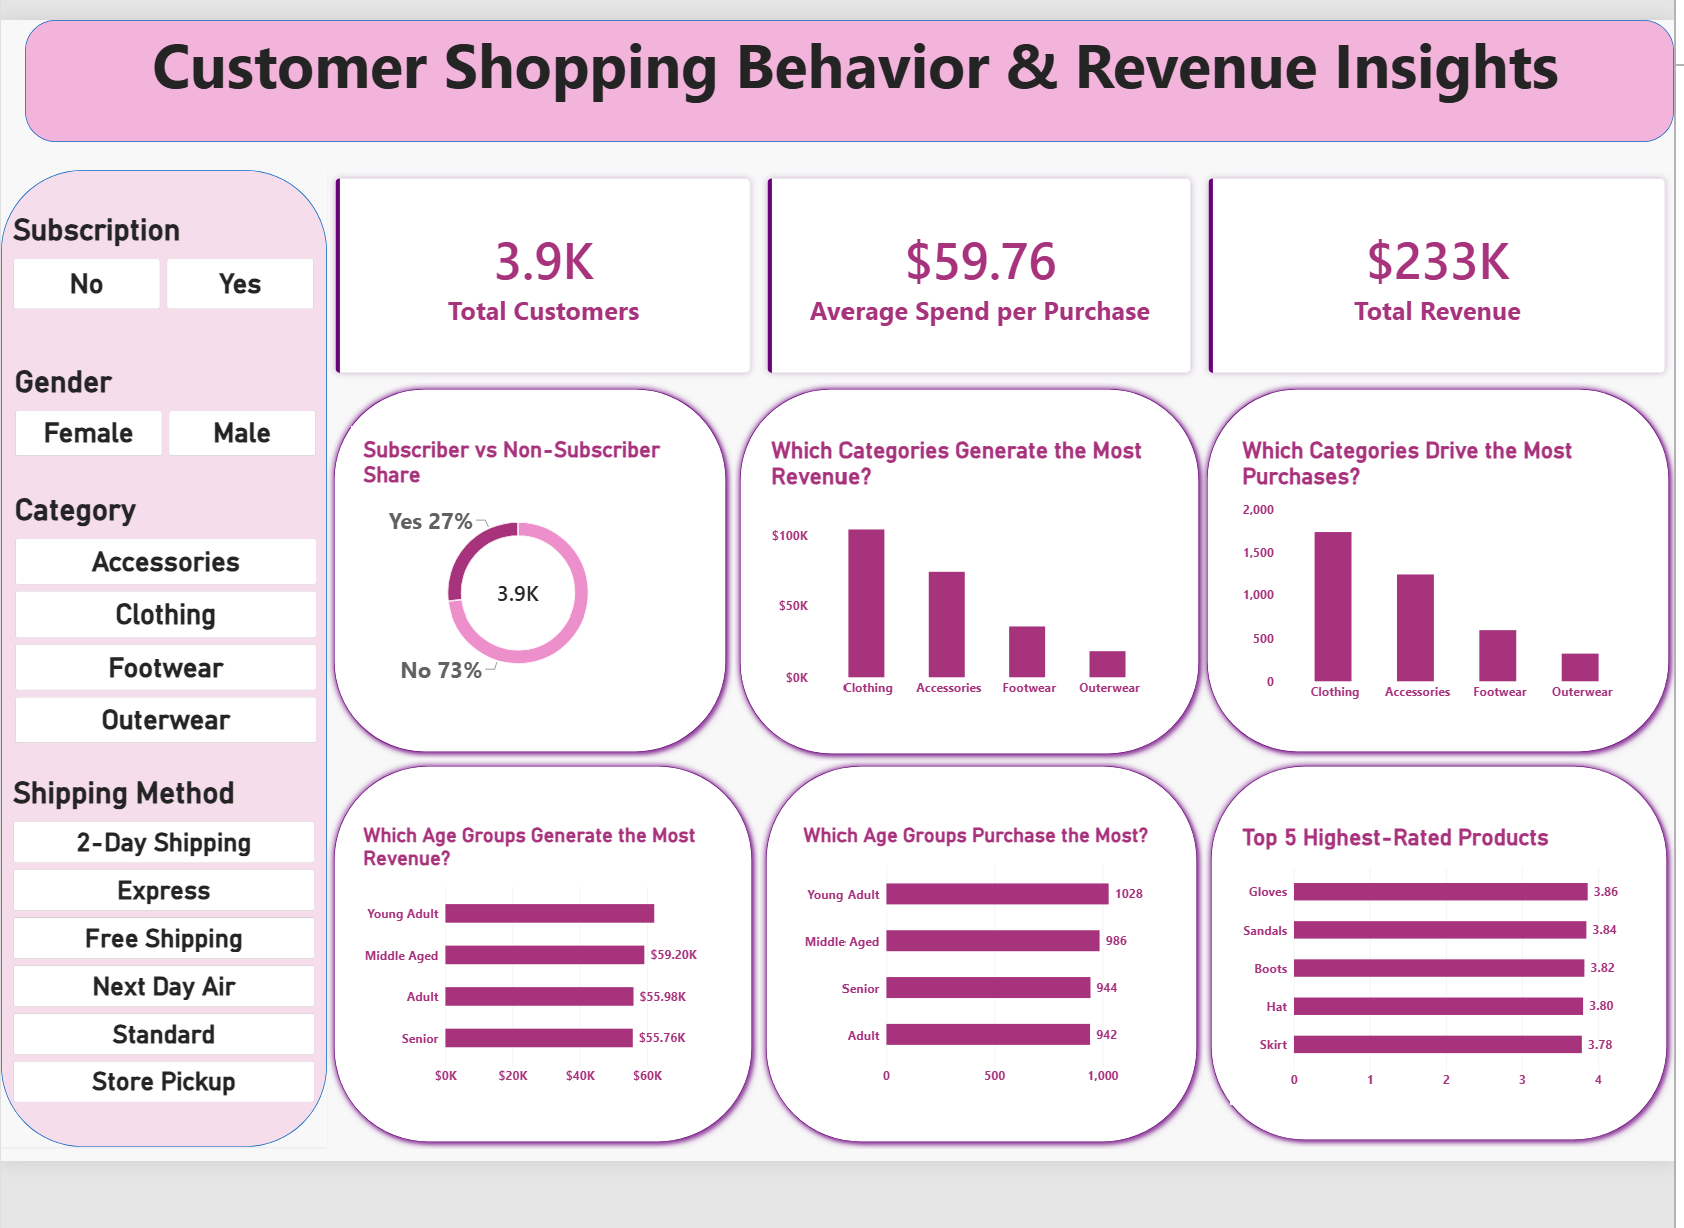

The page's visual inventory and layout, read from the dashboard file:
{"tool":"powerbi","page":{"name":"Page 1","canvas":[2200,1500],"ordinal":0},"visuals":[{"type":"cardVisual","fields":{"Data":["customer_shopping_behavior.Number of Customers"]},"box":[428.9,197.4,568.4,278.9],"z":0},{"type":"cardVisual","fields":{"Data":["customer_shopping_behavior.Average Purchase Amount"]},"box":[997.4,197.4,578.9,278.9],"z":1000},{"type":"cardVisual","fields":{"Data":["Sum(customer_shopping_behavior.purchase_amount)"]},"box":[1576.3,197.4,623.7,278.9],"z":2000},{"type":"shape","box":[31.6,0,2168.4,160.5],"z":3000},{"type":"textbox","box":[81.6,2.6,2084.2,165.8],"z":4000},{"type":"shape","box":[428.9,476.3,534.2,494.7],"z":5000},{"type":"donutChart","title":"Subscriber vs Non-Subscriber Share","fields":{"Category":["customer_shopping_behavior.subscription_status"],"Y":["CountNonNull(customer_shopping_behavior.customer_id)"]},"box":[460.5,534.2,439.5,357.9],"z":6000},{"type":"shape","box":[963.2,476.3,621.1,497.4],"z":7000},{"type":"shape","box":[1576.3,476.3,626.3,494.7],"z":8000},{"type":"clusteredColumnChart","title":"Which Categories Generate the Most Revenue?","fields":{"Category":["customer_shopping_behavior.category"],"Y":["Sum(customer_shopping_behavior.purchase_amount)"]},"box":[997.4,534.2,544.7,376.3],"z":9000},{"type":"clusteredColumnChart","title":"Which Categories Drive the Most Purchases?","fields":{"Category":["customer_shopping_behavior.category"],"Y":["CountNonNull(customer_shopping_behavior.customer_id)"]},"box":[1615.8,534.2,550,381.6],"z":9001},{"type":"shape","box":[0,197.4,428.9,1284.2],"z":9002},{"type":"advancedSlicerVisual","title":"Subscription ","fields":{"Values":["customer_shopping_behavior.subscription_status"]},"box":[15.8,252.6,397.4,128.9],"z":9003},{"type":"advancedSlicerVisual","title":"Gender","fields":{"Values":["customer_shopping_behavior.gender"]},"box":[18.4,452.6,397.4,121.1],"z":9004},{"type":"advancedSlicerVisual","title":"Category","fields":{"Values":["customer_shopping_behavior.category"]},"box":[18.4,621.1,397.4,331.6],"z":9005},{"type":"shape","box":[428.9,971.1,568.4,513.2],"z":9008},{"type":"clusteredBarChart","title":"Which Age Groups Generate the Most Revenue?","fields":{"Category":["customer_shopping_behavior.age_group"],"Y":["Sum(customer_shopping_behavior.purchase_amount)"]},"box":[460.5,1042.1,502.6,378.9],"z":9009},{"type":"shape","box":[997.4,971.1,584.2,513.2],"z":9010},{"type":"shape","box":[1581.6,971.1,618.4,510.5],"z":9011},{"type":"clusteredBarChart","title":"Which Age Groups Purchase the Most?","fields":{"Category":["customer_shopping_behavior.age_group"],"Y":["CountNonNull(customer_shopping_behavior.customer_id)"]},"box":[1039.5,1042.1,502.6,378.9],"z":9012},{"type":"clusteredBarChart","title":"Top 5 Highest-Rated Products","fields":{"Category":["customer_shopping_behavior.item_purchased"],"Y":["Avg(customer_shopping_behavior.review_rating)"]},"box":[1615.8,1042.1,531.6,384.2],"z":9013},{"type":"advancedSlicerVisual","title":"Shipping Method","fields":{"Values":["customer_shopping_behavior.shipping_type"]},"box":[15.8,992.1,397.4,431.6],"z":9014}]}

Visuals, with their boxes in screenshot pixels (x1, y1, x2, y2):
cardVisual - customer_shopping_behavior.Number of Customers: {"left": 333, "top": 79, "right": 762, "bottom": 289}
cardVisual - customer_shopping_behavior.Average Purchase Amount: {"left": 762, "top": 79, "right": 1199, "bottom": 289}
cardVisual - Sum(customer_shopping_behavior.purchase_amount): {"left": 1199, "top": 79, "right": 1669, "bottom": 289}
shape: {"left": 33, "top": 0, "right": 1669, "bottom": 51}
textbox: {"left": 70, "top": 0, "right": 1644, "bottom": 57}
shape: {"left": 333, "top": 289, "right": 736, "bottom": 663}
"Subscriber vs Non-Subscriber Share" donutChart: {"left": 356, "top": 333, "right": 688, "bottom": 603}
shape: {"left": 736, "top": 289, "right": 1205, "bottom": 665}
shape: {"left": 1199, "top": 289, "right": 1671, "bottom": 663}
"Which Categories Generate the Most Revenue?" clusteredColumnChart: {"left": 762, "top": 333, "right": 1173, "bottom": 617}
"Which Categories Drive the Most Purchases?" clusteredColumnChart: {"left": 1228, "top": 333, "right": 1644, "bottom": 621}
shape: {"left": 9, "top": 79, "right": 333, "bottom": 1048}
"Subscription " advancedSlicerVisual: {"left": 21, "top": 121, "right": 321, "bottom": 218}
"Gender" advancedSlicerVisual: {"left": 23, "top": 271, "right": 323, "bottom": 363}
"Category" advancedSlicerVisual: {"left": 23, "top": 399, "right": 323, "bottom": 649}
shape: {"left": 333, "top": 663, "right": 762, "bottom": 1050}
"Which Age Groups Generate the Most Revenue?" clusteredBarChart: {"left": 356, "top": 716, "right": 736, "bottom": 1003}
shape: {"left": 762, "top": 663, "right": 1203, "bottom": 1050}
shape: {"left": 1203, "top": 663, "right": 1669, "bottom": 1048}
"Which Age Groups Purchase the Most?" clusteredBarChart: {"left": 793, "top": 716, "right": 1173, "bottom": 1003}
"Top 5 Highest-Rated Products" clusteredBarChart: {"left": 1228, "top": 716, "right": 1630, "bottom": 1007}
"Shipping Method" advancedSlicerVisual: {"left": 21, "top": 679, "right": 321, "bottom": 1005}
